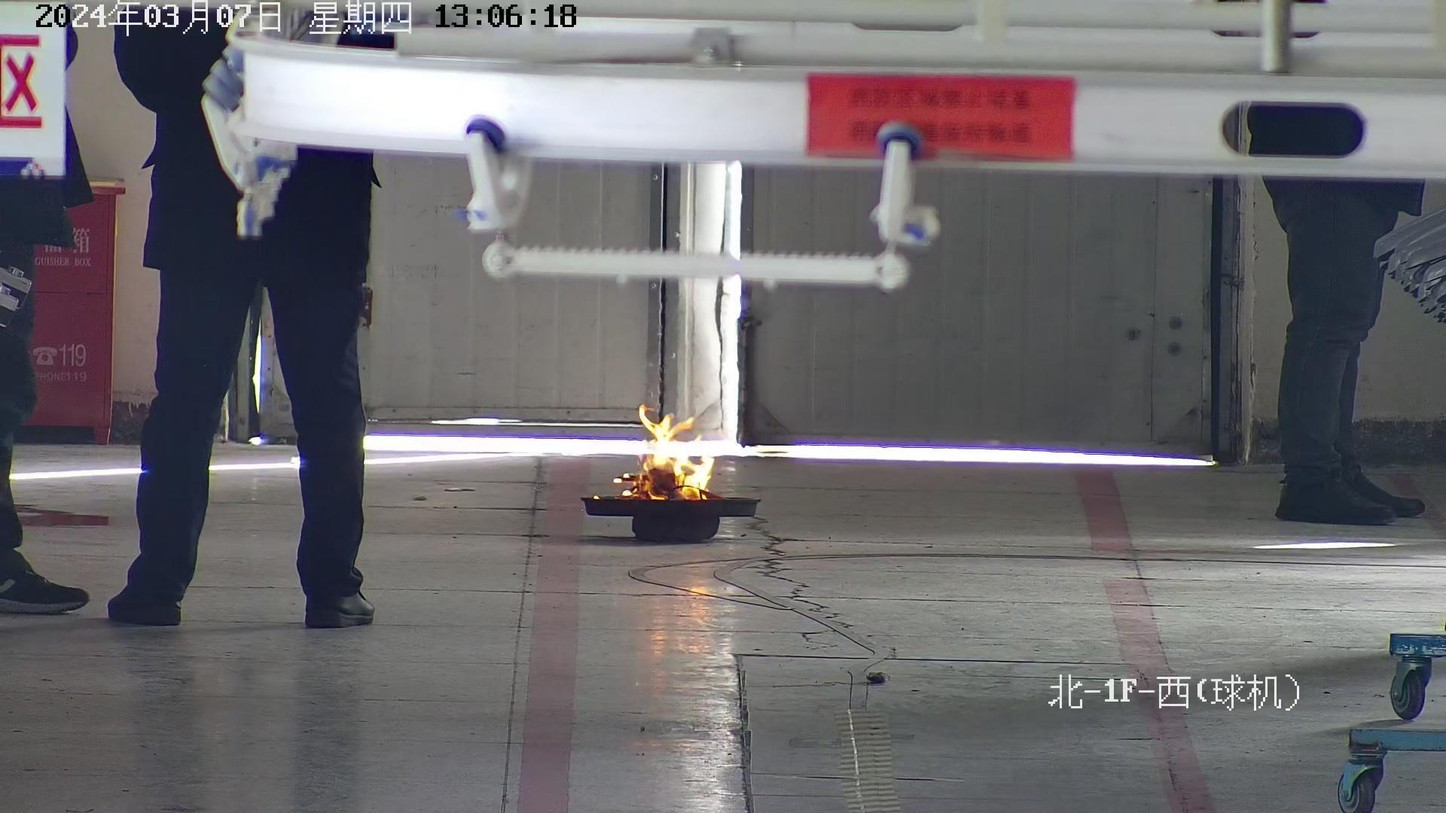fire: (621, 405, 721, 500)
